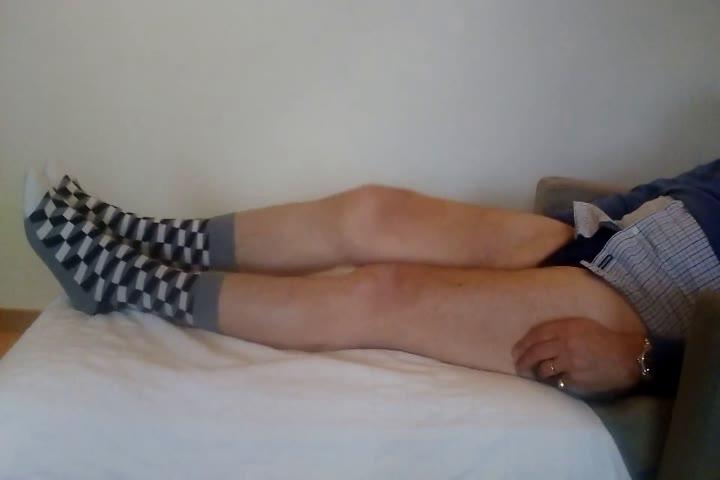lower_body: (14, 141, 678, 417)
